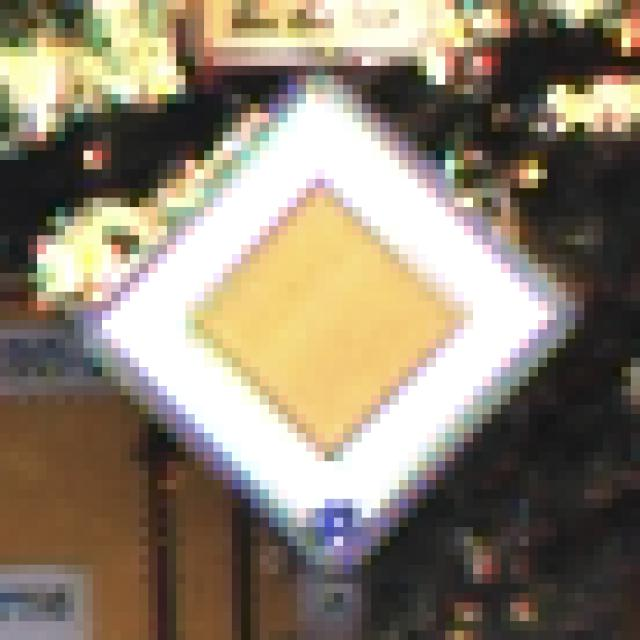Main Road: (57, 58, 585, 585)
